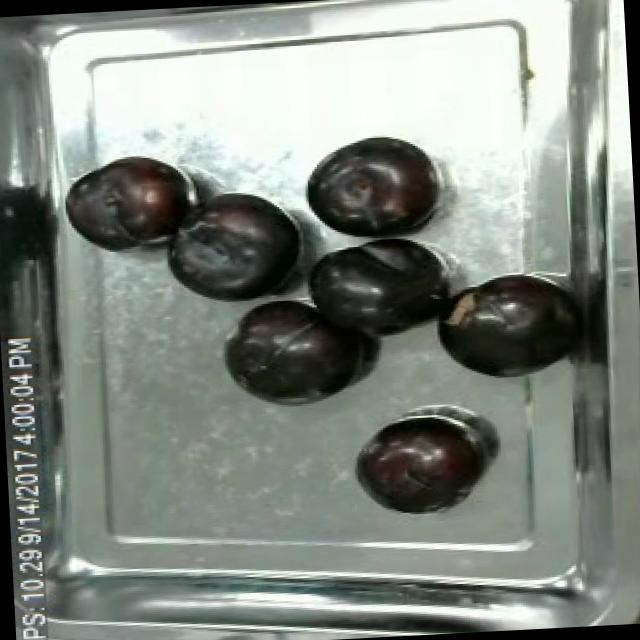Fruit: (296, 231, 460, 349), (216, 290, 374, 410), (424, 264, 579, 386), (159, 190, 314, 310), (298, 127, 452, 245), (350, 410, 489, 520), (60, 148, 197, 255)
